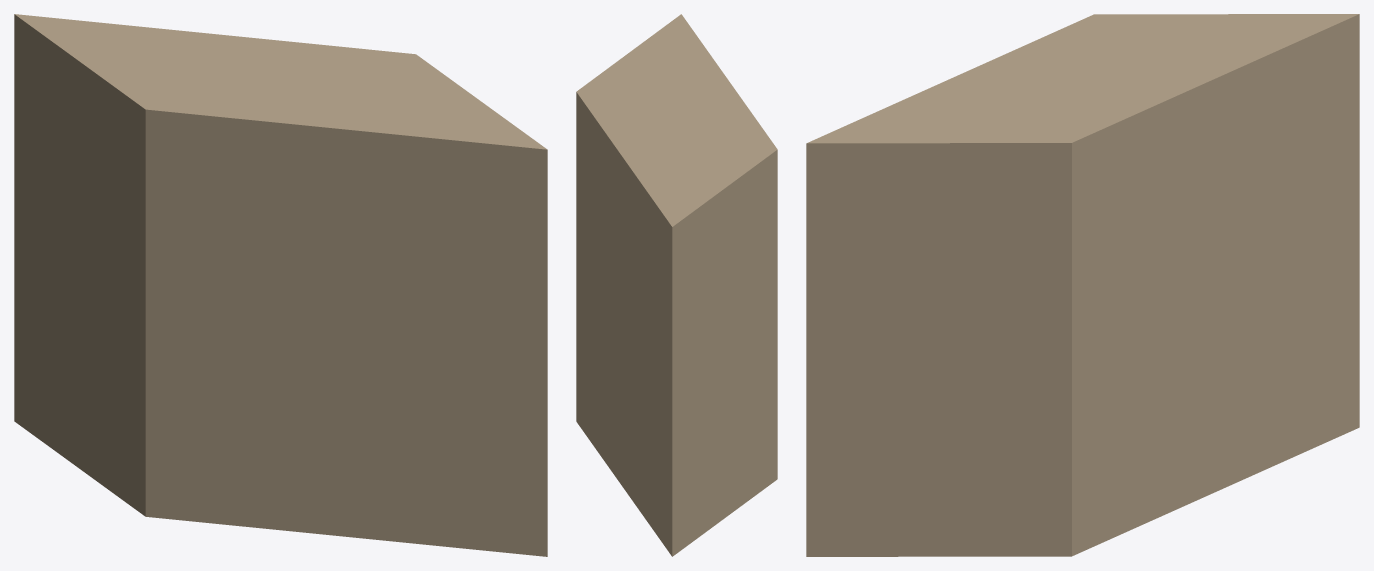
The model's file is bld_99020353.dae.
The picture shows the model from 3 angles, left to right: view 1: azimuth 30°, elevation 25°; view 2: azimuth 150°, elevation 25°; view 3: azimuth 270°, elevation 25°; orthographic projection. The views are drawn at different scales.
Parts seen in each view (by area): view 1: bld_99020353; view 2: bld_99020353; view 3: bld_99020353.
Part boxes in pixels (x1,y1,x2,y2): bld_99020353: (14, 14, 547, 556); bld_99020353: (576, 14, 777, 556); bld_99020353: (806, 14, 1359, 556).
Bounding box in the file's own units: 5.37 × 9.7 × 8.
